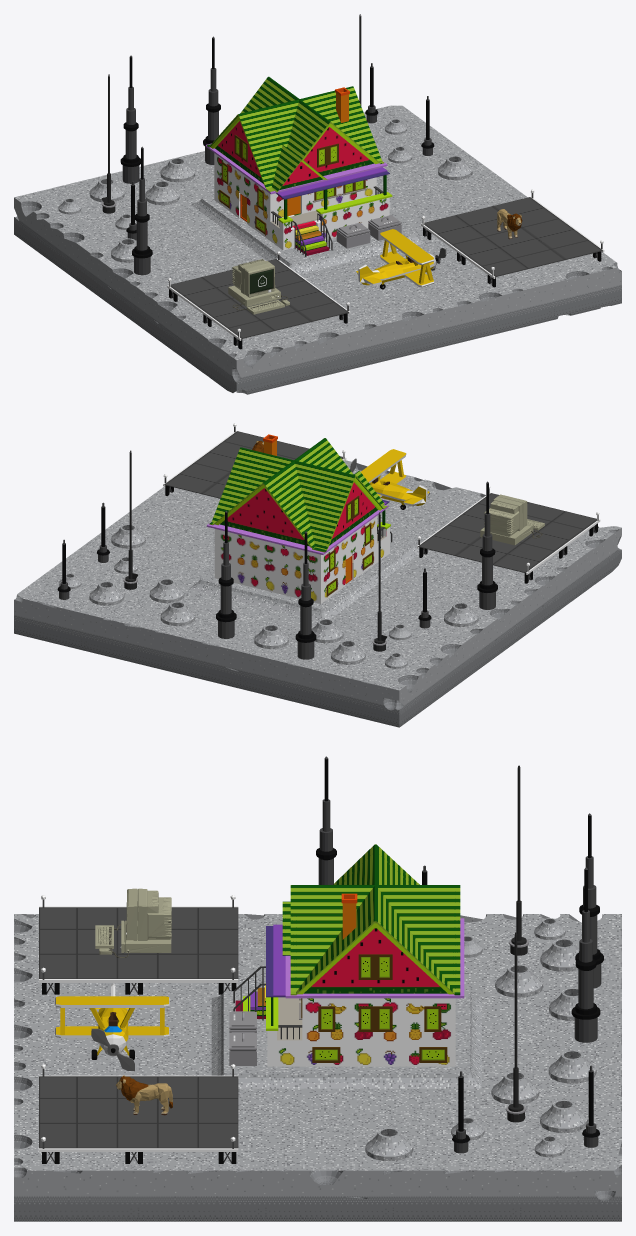
3 renders of one model, top to bottom at view 1: azimuth 30°, elevation 25°; view 2: azimuth 150°, elevation 25°; view 3: azimuth 270°, elevation 25°, orthographic. The views are drawn at different scales.
Visible parts, largest first — view 1: Cube.027, Cube.1063, Cube.026, Cube.025, Cube.028, VEHICLES_AIRPLANE, OBJRANDOM_RETRO_PC, Cylinder.020, Cylinder.021, Cylinder.017, Cube.029, Cylinder.027 (+4 smaller); view 2: Cube.027, Cube.1063, Cube.025, Cube.028, Cube.026, VEHICLES_AIRPLANE, OBJRANDOM_RETRO_PC, Cylinder.020, Cylinder.021, Cylinder.017, Cylinder.031, Cylinder.028 (+8 smaller); view 3: Cube.027, Cube.1063, Cube.026, Cube.025, Cube.028, VEHICLES_AIRPLANE, OBJRANDOM_RETRO_PC, Cylinder.017, Cylinder.020, Cylinder.021, ANIMAL_LEON, Cylinder.033 (+11 smaller).
Boxes of the visible parts, x1=… form: Cube.027: x1=14, y1=105, x2=621, y2=394; Cube.1063: x1=205, y1=76, x2=392, y2=256; Cube.026: x1=421, y1=189, x2=604, y2=287; Cube.025: x1=167, y1=251, x2=350, y2=349; Cube.028: x1=191, y1=195, x2=424, y2=274; VEHICLES_AIRPLANE: x1=356, y1=229, x2=446, y2=289; OBJRANDOM_RETRO_PC: x1=228, y1=259, x2=289, y2=314; Cylinder.020: x1=120, y1=55, x2=140, y2=183; Cylinder.021: x1=132, y1=146, x2=152, y2=275; Cylinder.017: x1=203, y1=36, x2=220, y2=164; Cube.029: x1=336, y1=222, x2=370, y2=248; Cylinder.027: x1=160, y1=158, x2=195, y2=182; Cube.027: x1=14, y1=460, x2=621, y2=727; Cube.1063: x1=206, y1=434, x2=392, y2=603; Cube.025: x1=417, y1=485, x2=600, y2=583; Cube.028: x1=190, y1=538, x2=419, y2=620; Cube.026: x1=163, y1=423, x2=346, y2=498; VEHICLES_AIRPLANE: x1=350, y1=449, x2=429, y2=509; OBJRANDOM_RETRO_PC: x1=480, y1=494, x2=544, y2=545; Cylinder.020: x1=295, y1=531, x2=316, y2=659; Cylinder.021: x1=477, y1=481, x2=497, y2=609; Cylinder.017: x1=216, y1=510, x2=236, y2=638; Cylinder.031: x1=89, y1=581, x2=124, y2=605; Cylinder.028: x1=331, y1=640, x2=365, y2=664; Cube.027: x1=14, y1=914, x2=621, y2=1221; Cube.1063: x1=233, y1=844, x2=464, y2=1066; Cube.026: x1=39, y1=1064, x2=238, y2=1163; Cube.025: x1=39, y1=895, x2=238, y2=994; Cube.028: x1=211, y1=991, x2=481, y2=1088; VEHICLES_AIRPLANE: x1=55, y1=983, x2=169, y2=1071; OBJRANDOM_RETRO_PC: x1=95, y1=888, x2=171, y2=958; Cylinder.017: x1=571, y1=867, x2=600, y2=1042; Cylinder.020: x1=575, y1=813, x2=603, y2=988; Cylinder.021: x1=316, y1=756, x2=336, y2=884; ANIMAL_LEON: x1=116, y1=1075, x2=172, y2=1115; Cylinder.033: x1=365, y1=1128, x2=413, y2=1160.
Bounding box in the file's own units: 4000 × 1815 × 4000.
39 materials, 6 textured.
